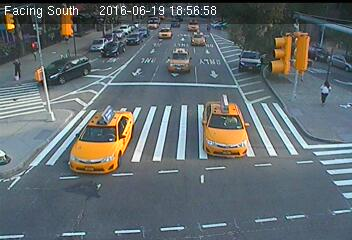neg: (112, 66, 137, 100), (101, 32, 125, 63), (173, 44, 195, 74), (206, 27, 226, 53)
pos: (317, 76, 339, 105), (9, 54, 29, 81), (28, 45, 42, 63)
